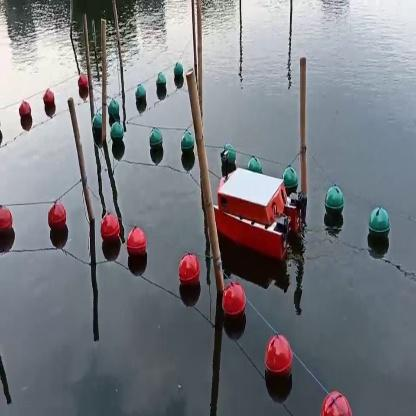green_buoy: (323, 183, 346, 226), (367, 206, 390, 248), (283, 164, 299, 190), (181, 132, 195, 158), (223, 142, 236, 169), (150, 128, 164, 152), (110, 125, 126, 145), (92, 115, 102, 139), (108, 99, 120, 119), (174, 62, 184, 85), (249, 154, 261, 172), (156, 75, 166, 96), (136, 87, 146, 104)
red_buoy: (262, 328, 294, 391), (220, 278, 249, 330), (127, 227, 148, 265), (179, 254, 199, 290), (325, 389, 353, 414), (101, 212, 120, 246), (50, 204, 67, 236), (0, 206, 12, 244), (20, 104, 31, 126), (44, 88, 53, 114), (78, 74, 88, 96)
